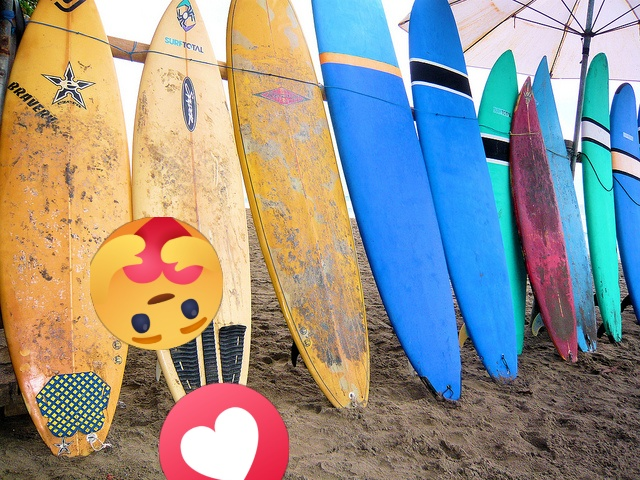care: (90, 217, 223, 350)
love: (159, 383, 289, 480)
